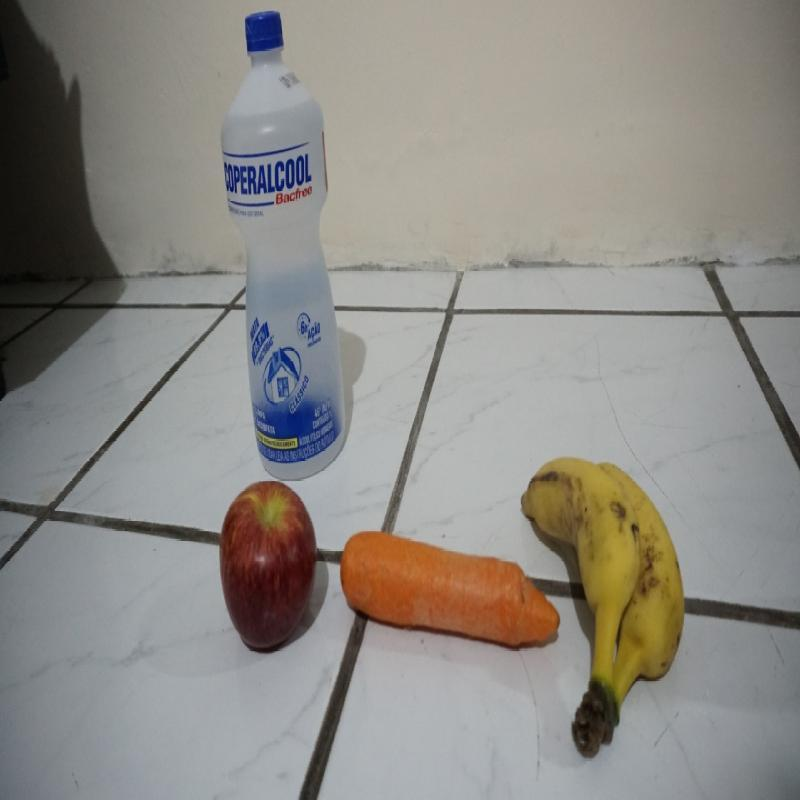Alcohol Bottle: (222, 10, 353, 481)
Apple: (219, 486, 321, 654)
Banana: (559, 445, 709, 760)
Carrot: (340, 525, 560, 670)
